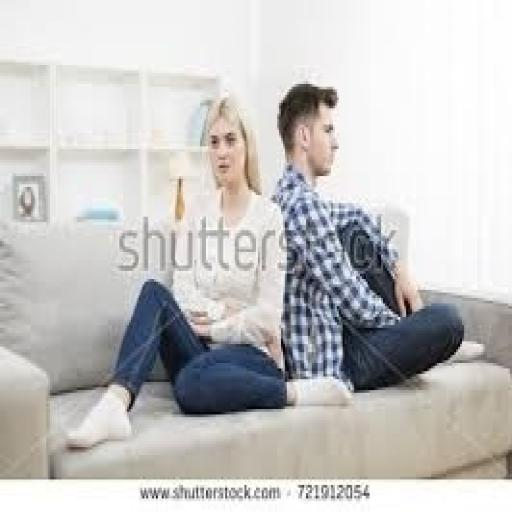sitting: (64, 92, 288, 450), (269, 79, 464, 398)
